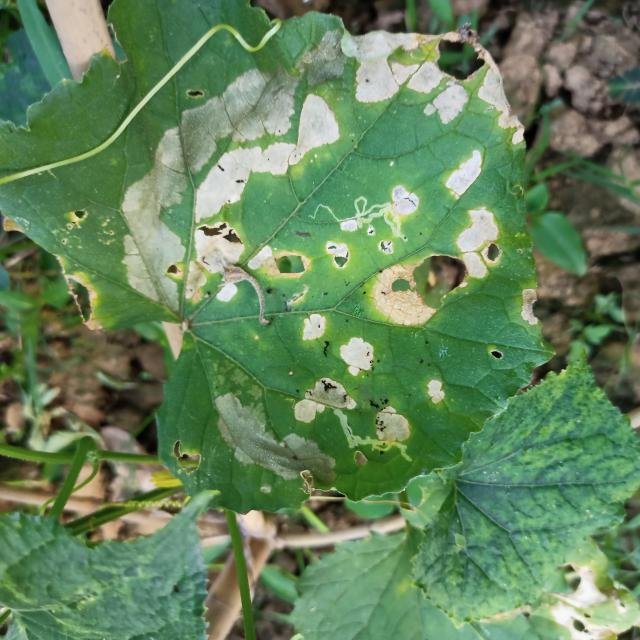disease_cucumber: (116, 45, 345, 314), (348, 28, 530, 330), (215, 307, 453, 481)
